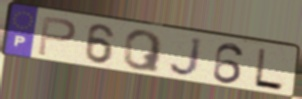6: (211, 41, 245, 85), (84, 23, 118, 66)
J: (167, 36, 204, 79)
L: (252, 46, 286, 93)
P: (36, 14, 78, 58)
Q: (122, 29, 166, 75)
